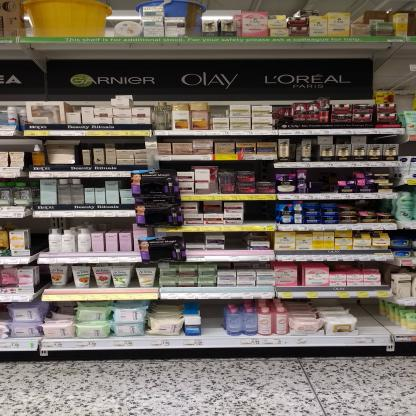Void: (360, 300, 398, 333), (205, 302, 225, 333), (245, 202, 273, 220), (85, 136, 139, 144), (1, 139, 32, 152), (35, 218, 47, 250), (307, 168, 346, 177), (260, 164, 277, 181), (223, 162, 253, 171), (110, 218, 130, 228), (230, 234, 244, 248), (210, 104, 227, 115), (162, 138, 190, 143), (182, 233, 199, 241), (83, 178, 99, 186), (123, 179, 130, 188)
